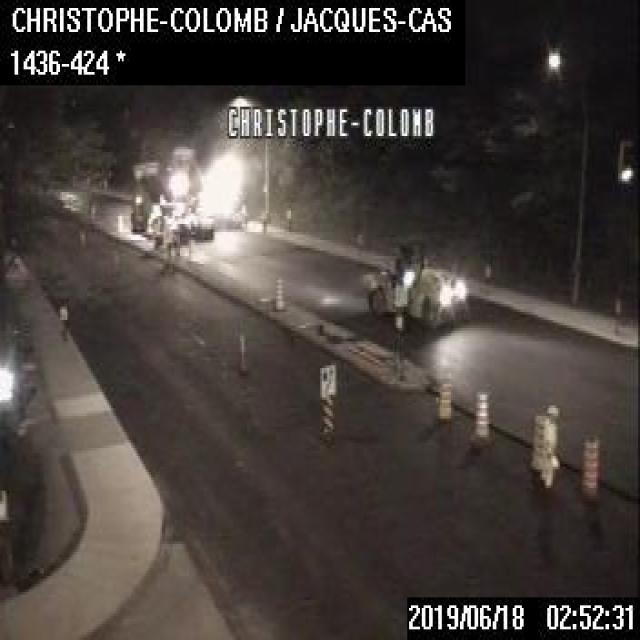construction: (577, 434, 598, 499), (473, 384, 489, 437), (528, 414, 542, 467), (436, 373, 451, 419), (273, 274, 284, 309)
pedestrian: (538, 403, 560, 509), (58, 297, 68, 337)
vehicle: (366, 235, 471, 328), (130, 142, 214, 238)
